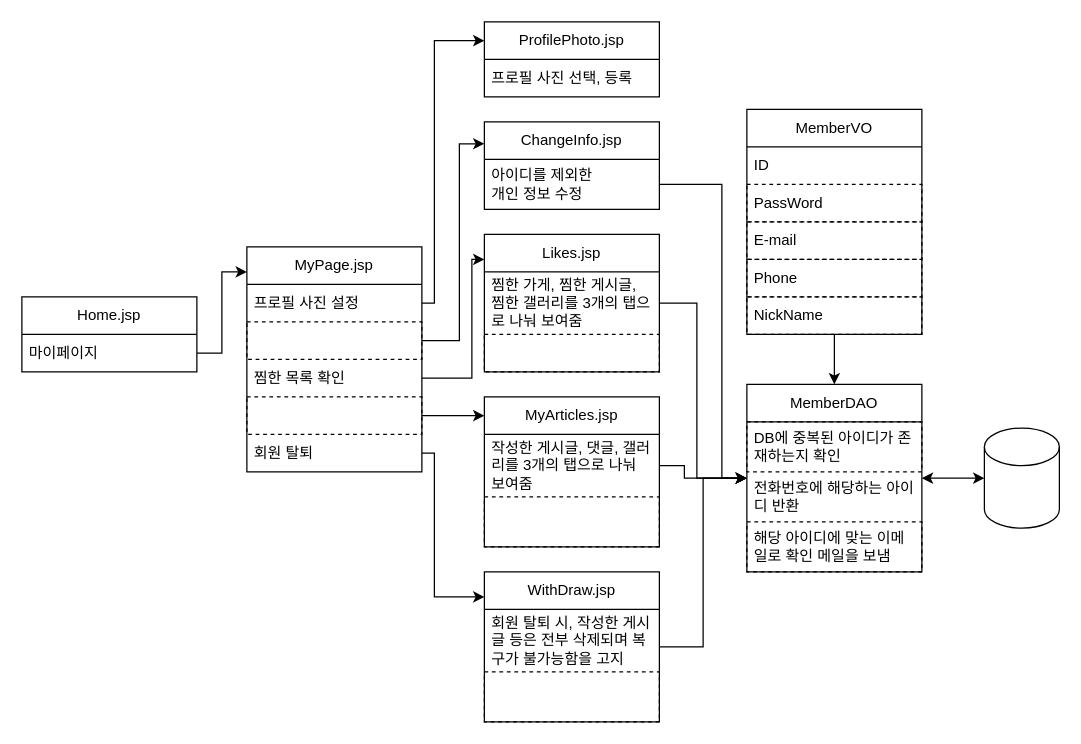
This 1081x744 diagram has some shape labels left out. The shapes that lost their labels are listed below. From the top down, each one's centre as x and y in pixels, then its label:
At point 334,340: "내 정보 확인 및 수정".
At point 571,352: "찜한것을 해제하거나 해당 페이지로 이동".
At point 334,415: "작성한 글 관리".
At point 1021,477: "Member DB".
At point 571,521: "삭제하거나 해당 글의 링크로 이동할 수 있음".
At point 571,696: "비밀번호를 한번 더 입력 받아 회원 탈퇴 진행".
